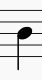note: (13, 4, 34, 76)
